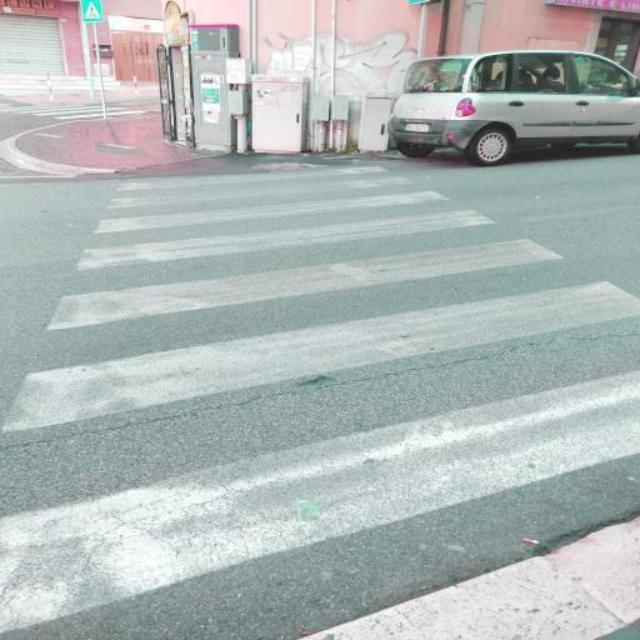sidewalk: (0, 158, 640, 640)
